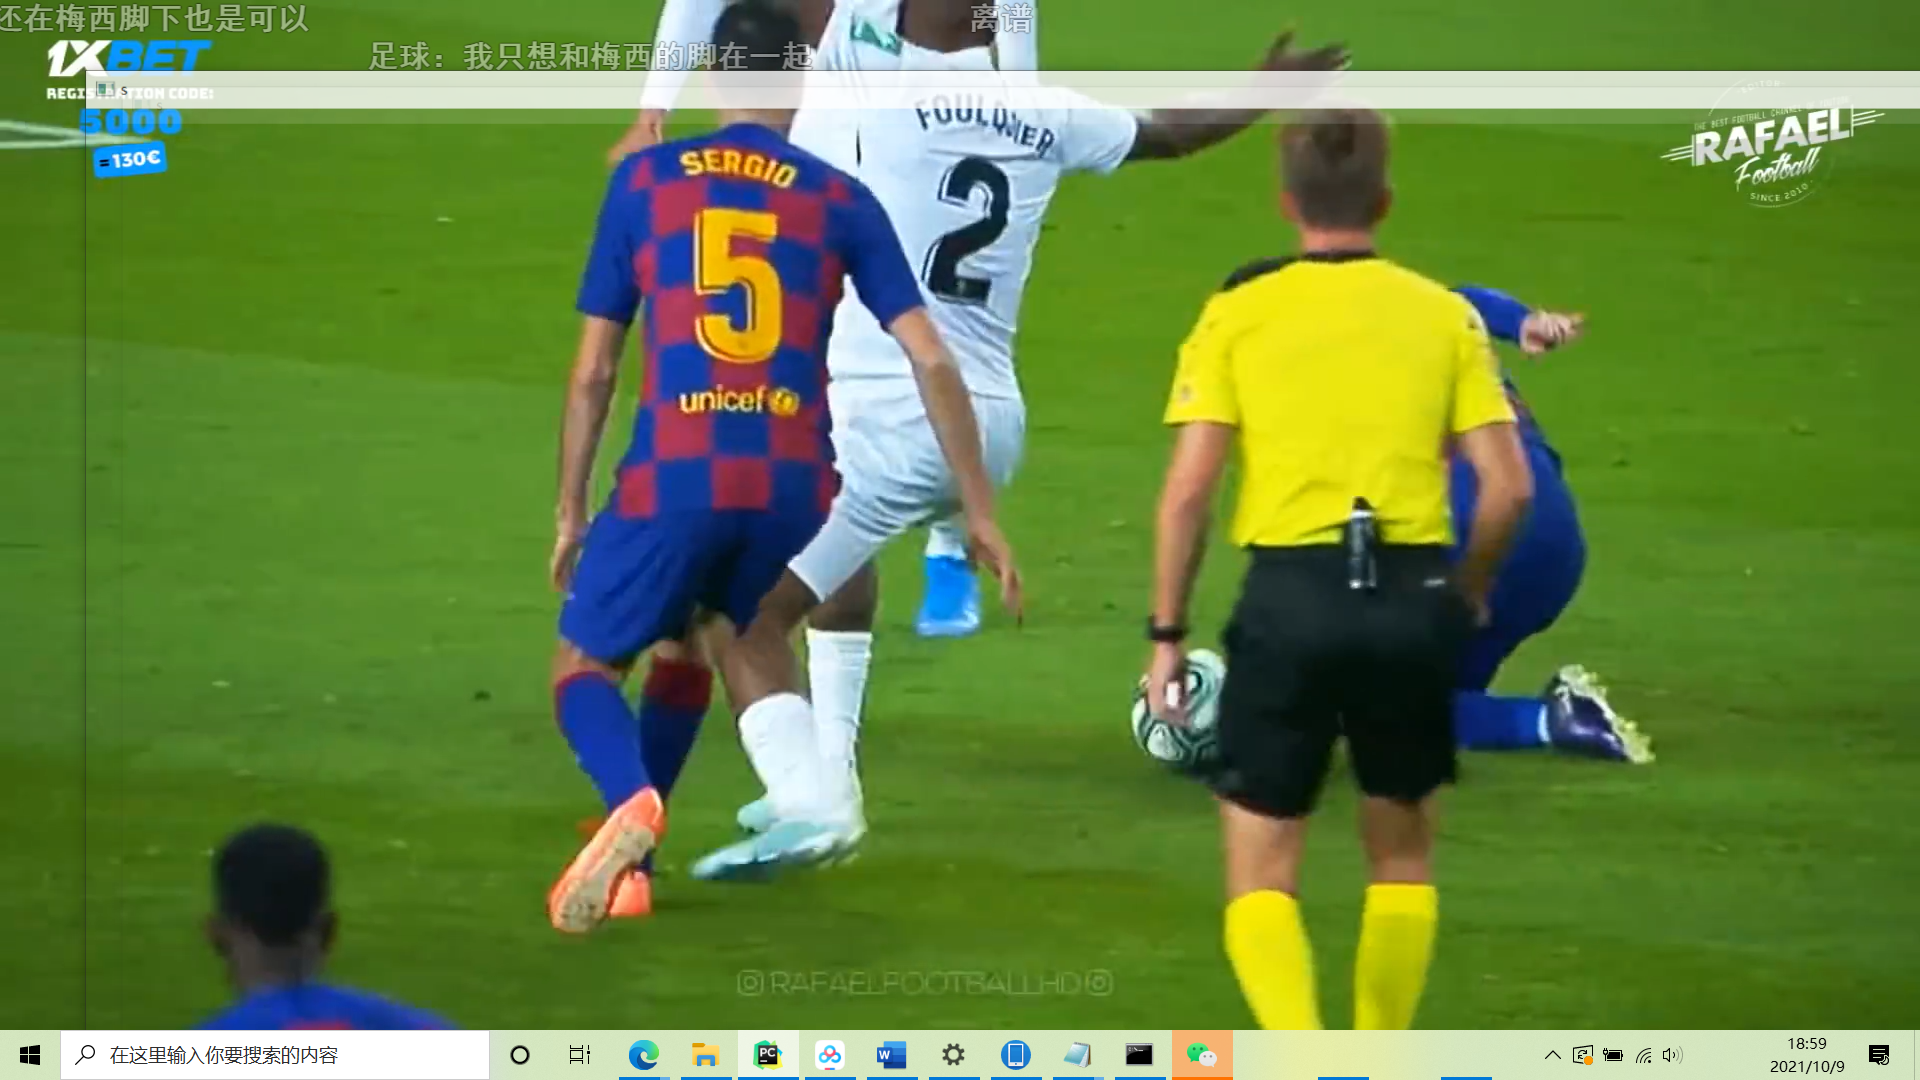ft: (1125, 645, 1234, 775)
